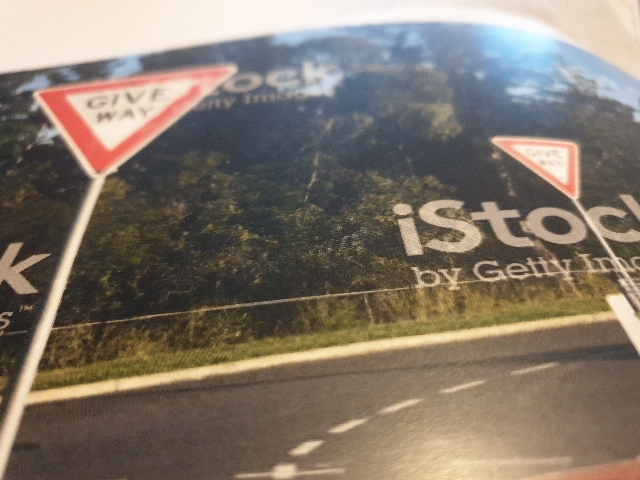giveway: (30, 79, 234, 170), (490, 117, 606, 199)
